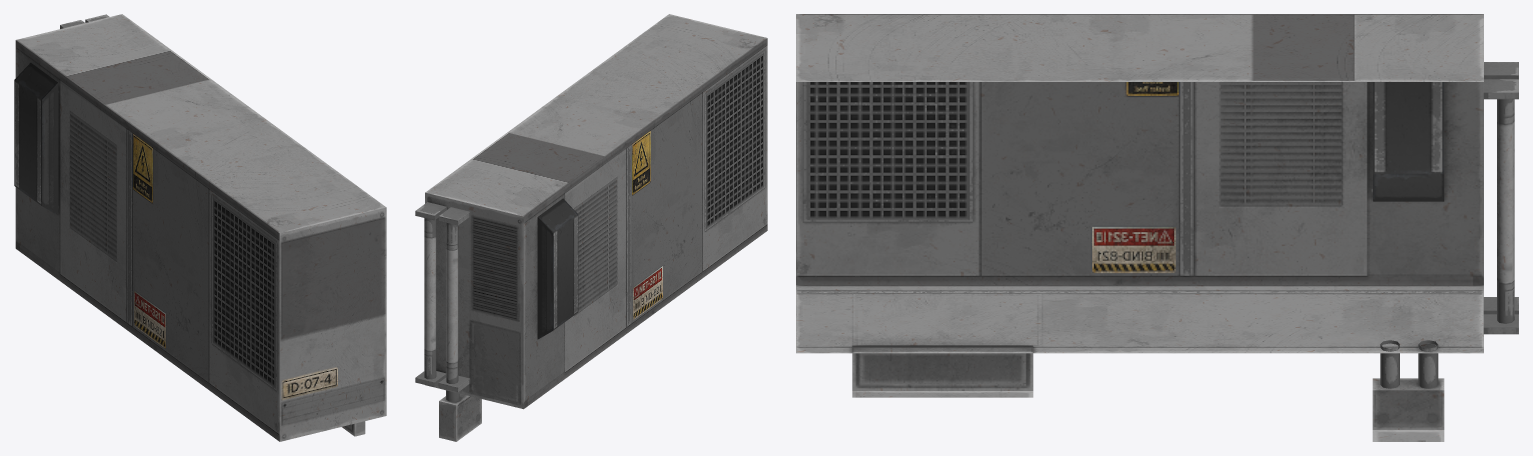
The model's file is CP_Conditioner_08.fbx.
3 views of the same model, side by side, from view 1: azimuth 30°, elevation 25°; view 2: azimuth 150°, elevation 25°; view 3: azimuth 270°, elevation 25° (orthographic). The views are drawn at different scales.
Parts seen in each view (by area): view 1: CP_Conditioner_08_LOD0; view 2: CP_Conditioner_08_LOD0; view 3: CP_Conditioner_08_LOD0.
Part boxes in pixels (bbox=[...]): CP_Conditioner_08_LOD0: bbox=[14, 14, 386, 441]; CP_Conditioner_08_LOD0: bbox=[415, 14, 767, 441]; CP_Conditioner_08_LOD0: bbox=[796, 14, 1518, 441].
Size of what is drawn, in the model's own units: 90.41 by 194 by 352.
